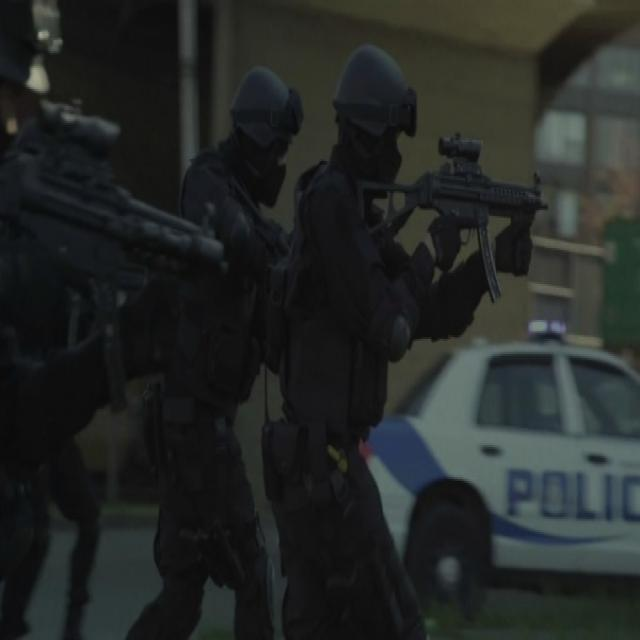rifle: (354, 133, 551, 311)
